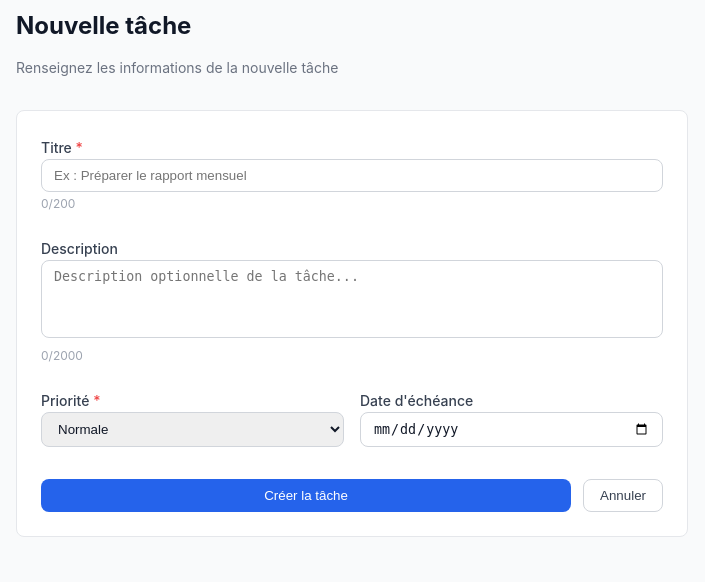
Scenario: TaskForm › Mode création (/tasks/new) › affiche une erreur si le titre est vide à la soumission
# Soumettre sans remplir le titre
Click the button "Créer la tâche": (306, 496) x1=41 y1=480 x2=571 y2=512
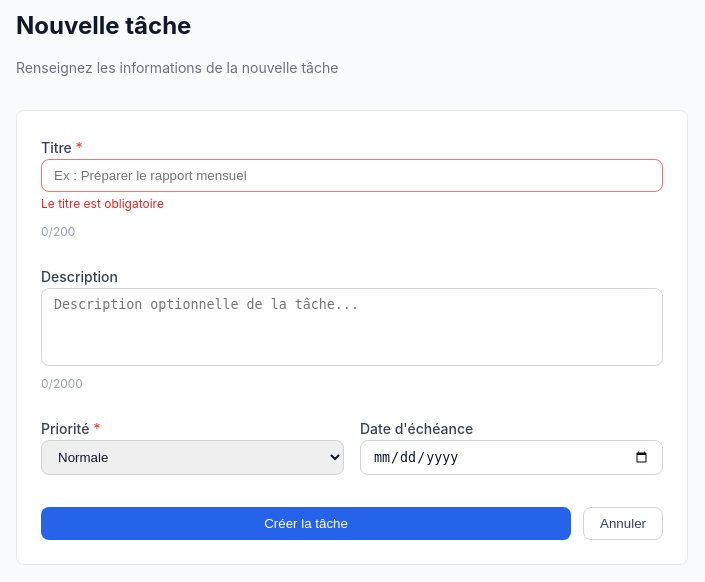
expect the text "Le titre est obligatoire" is shown: met, box x1=41 y1=196 x2=164 y2=211
